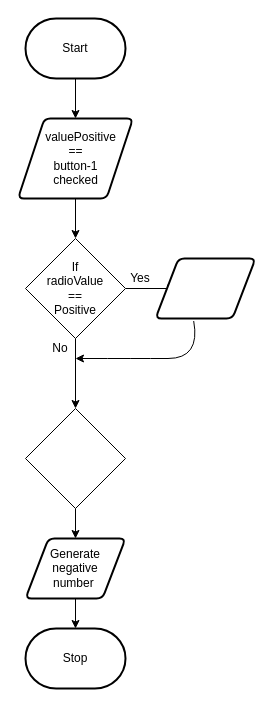
This 274x706 diagram has some shape labels left out. Here are the shapes that lost their labels. From the top down, the centre of each, then its label:
[205,288]: Generate positive number
[75,458]: Else
